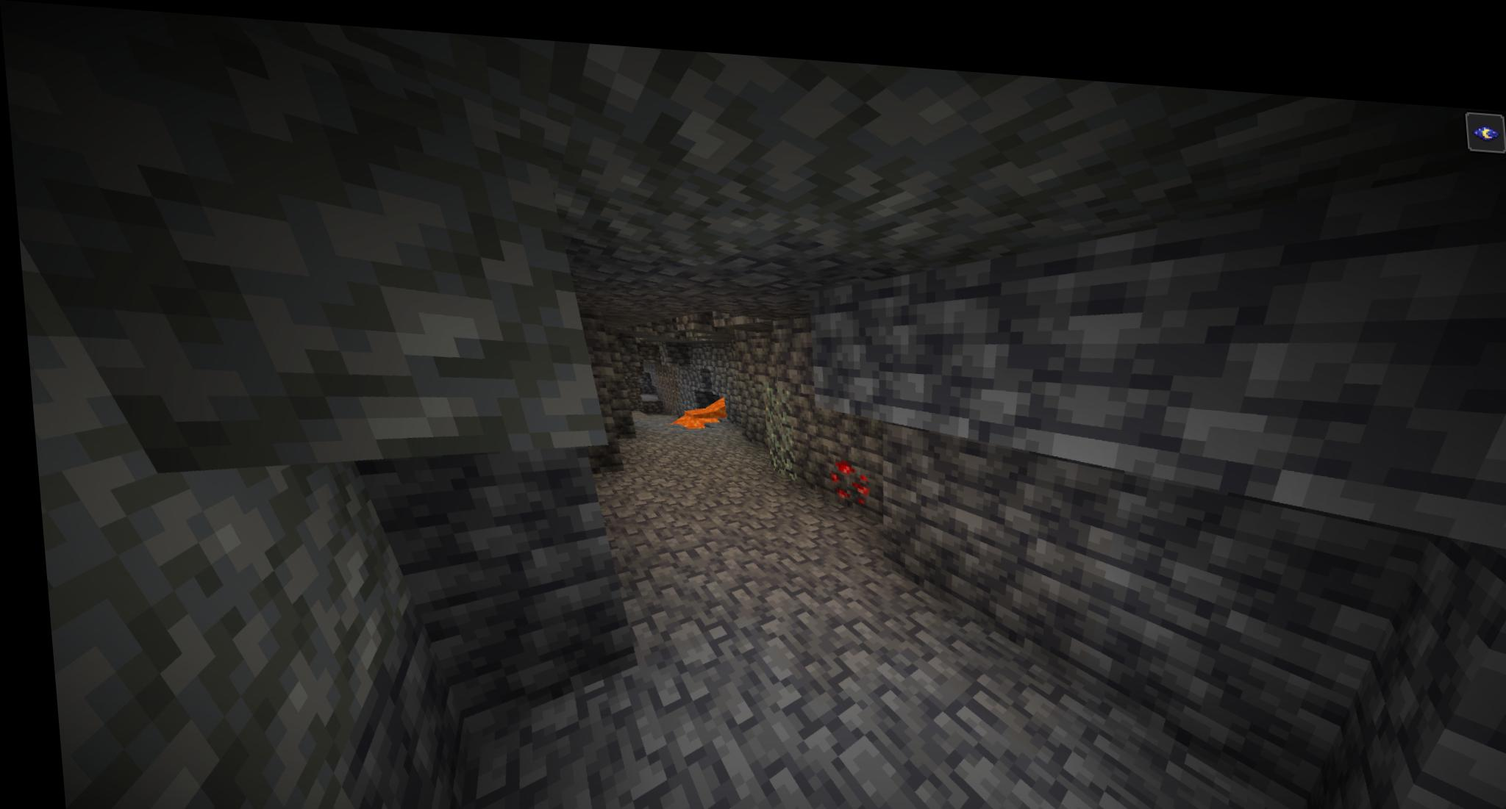redstone ore: (813, 438, 867, 489)
